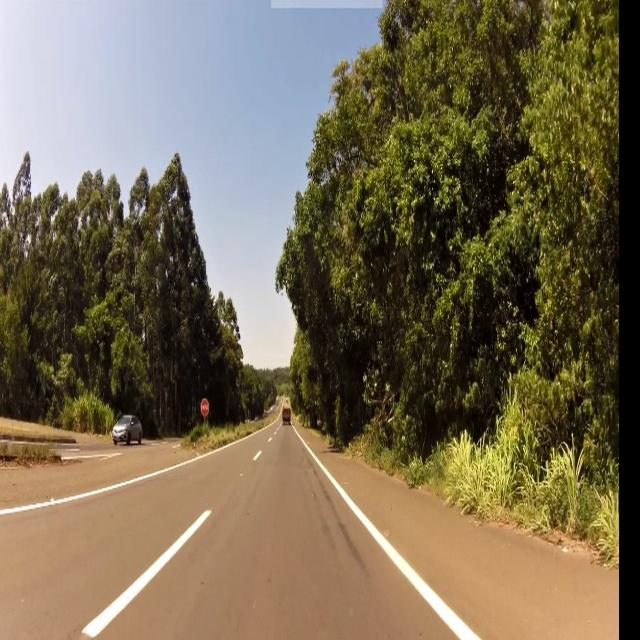R-1: (201, 400, 208, 416)
